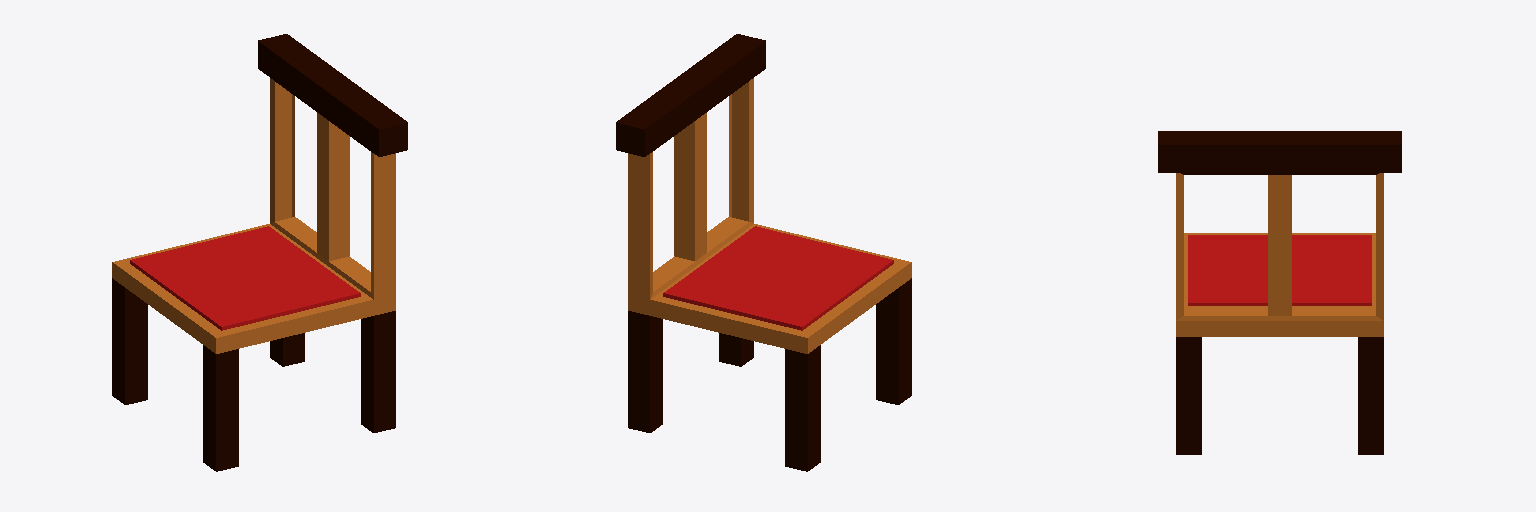
Rendered from Chair_2.obj.
The picture shows the model from 3 angles: view 1: azimuth 30°, elevation 25°; view 2: azimuth 150°, elevation 25°; view 3: azimuth 270°, elevation 25°; orthographic projection.
Parts seen in each view (by area): view 1: Chair_2_Cube.003; view 2: Chair_2_Cube.003; view 3: Chair_2_Cube.003.
Part boxes in pixels (bbox=[...]): Chair_2_Cube.003: bbox=[112, 34, 407, 471]; Chair_2_Cube.003: bbox=[616, 34, 911, 471]; Chair_2_Cube.003: bbox=[1158, 131, 1401, 454].
Size of the model in its own units: 3.33 by 5.41 by 3.83.